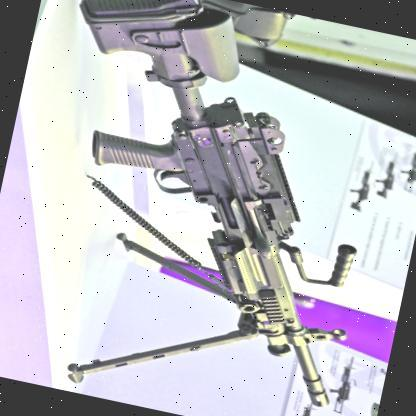rifle: (36, 0, 410, 416), (339, 159, 375, 215), (326, 351, 359, 410), (369, 153, 399, 204), (394, 144, 416, 194), (282, 398, 321, 416)
